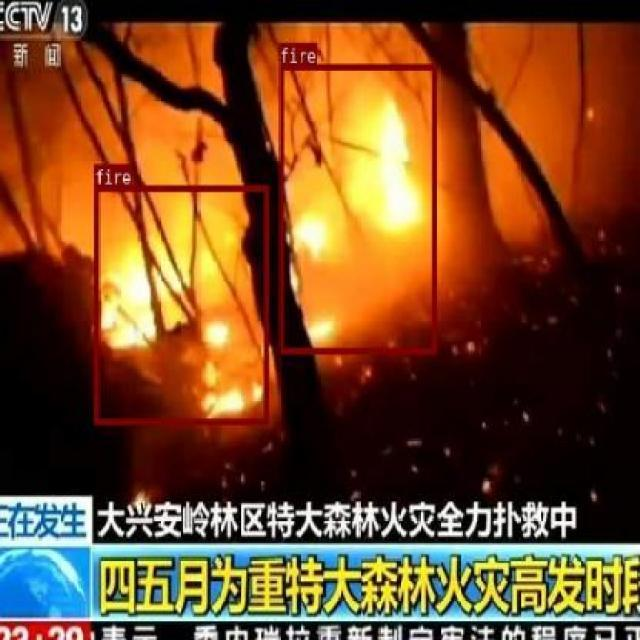Fire: (278, 62, 434, 353), (94, 184, 268, 423)
